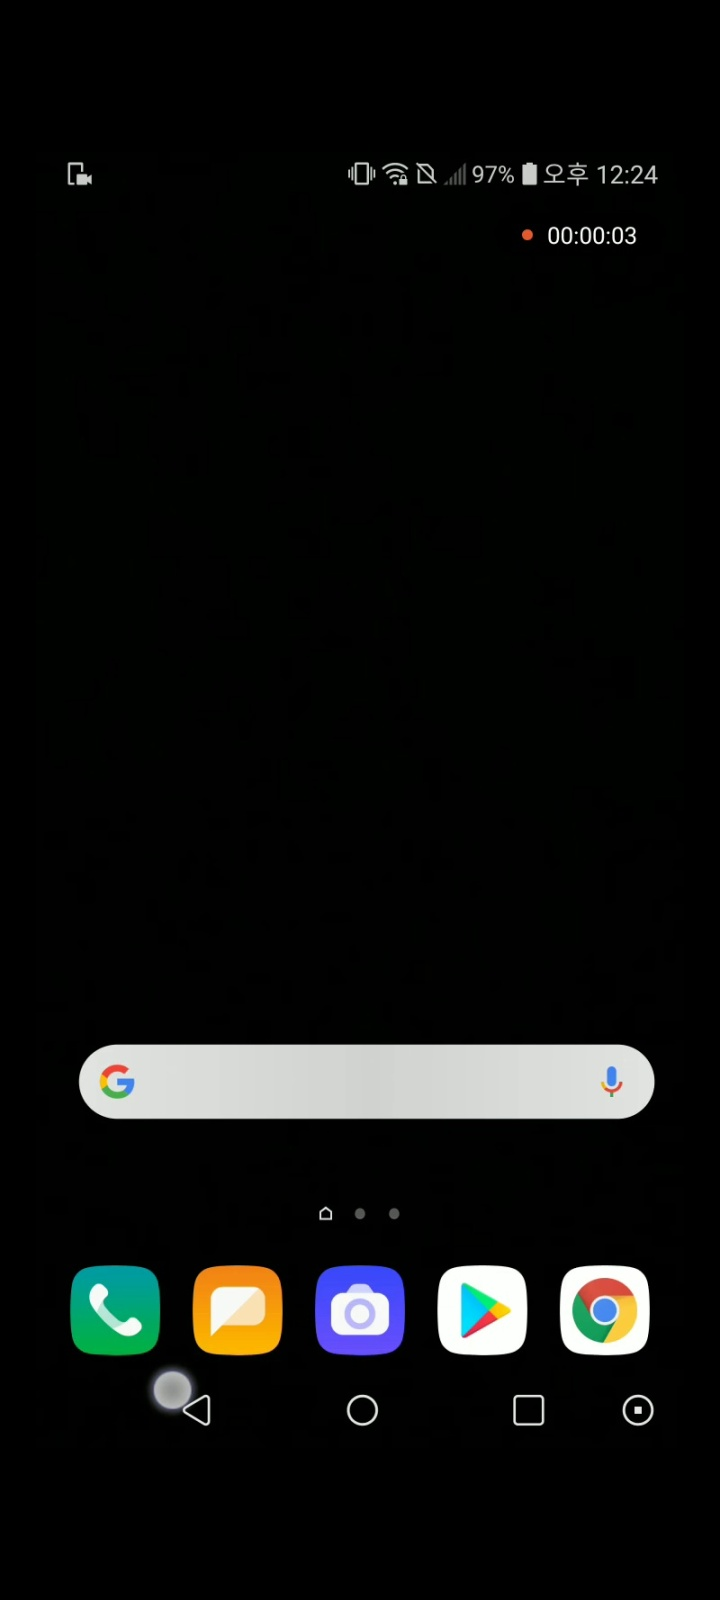Cursor: (152, 1370, 197, 1415)
